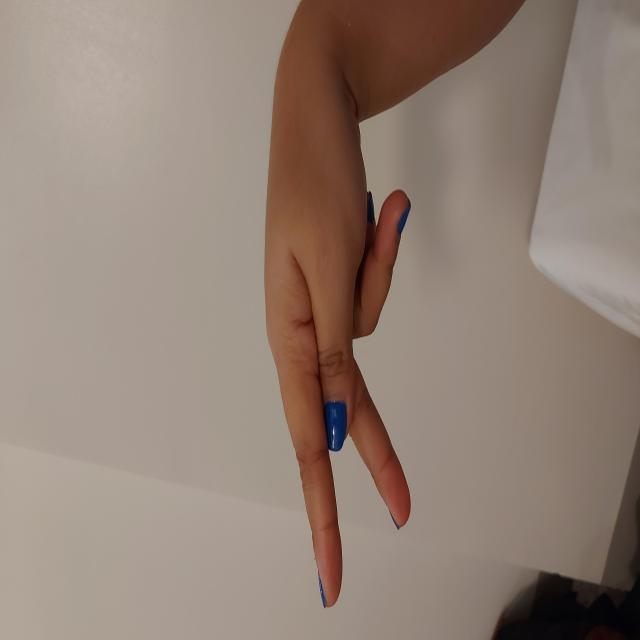P: (30, 262, 583, 412)
